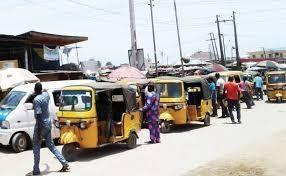keke: (53, 76, 144, 157), (158, 76, 214, 132), (266, 70, 286, 104)
